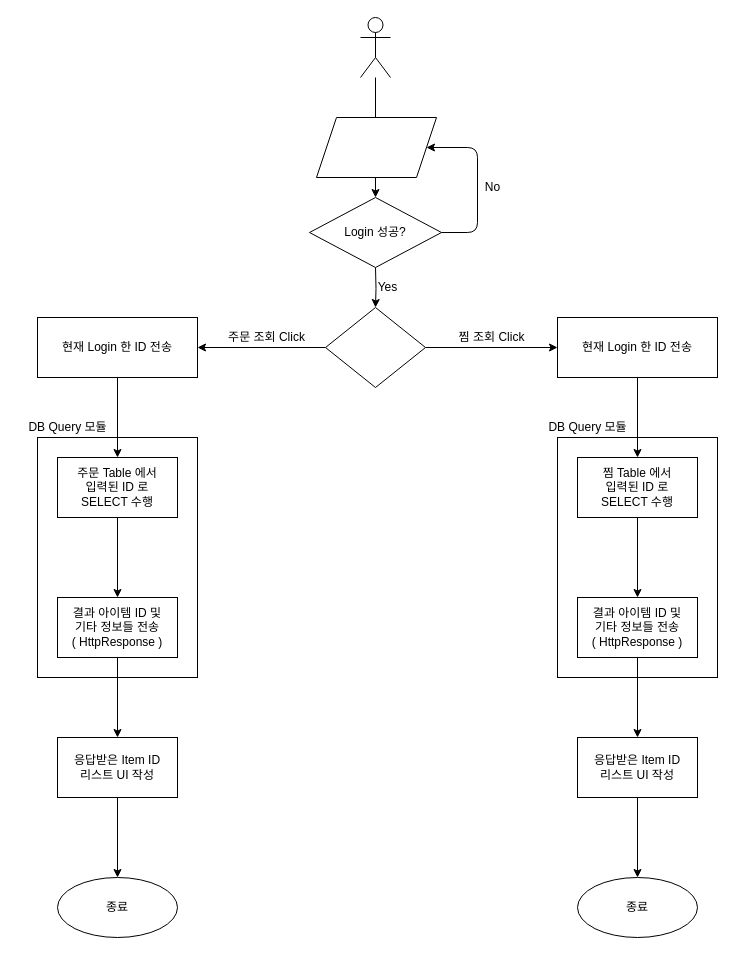
This 735x955 diagram has some shape labels left out. Here are the shapes that lost their labels. From the top down, the centre of each, then its label:
At point (375, 47): "Ac tor".
At point (376, 147): "ID, Passwd 입력".
At point (375, 347): "Application Button Click".
